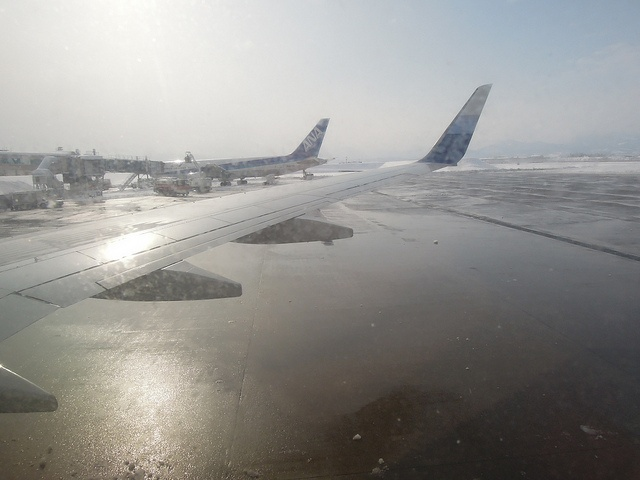airplane: (0, 83, 493, 480), (175, 117, 512, 303)
